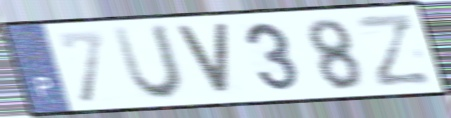3: (240, 19, 307, 94)
7: (55, 27, 109, 105)
8: (302, 16, 366, 92)
U: (109, 22, 189, 104)
V: (171, 22, 233, 98)
Z: (352, 12, 435, 91)
